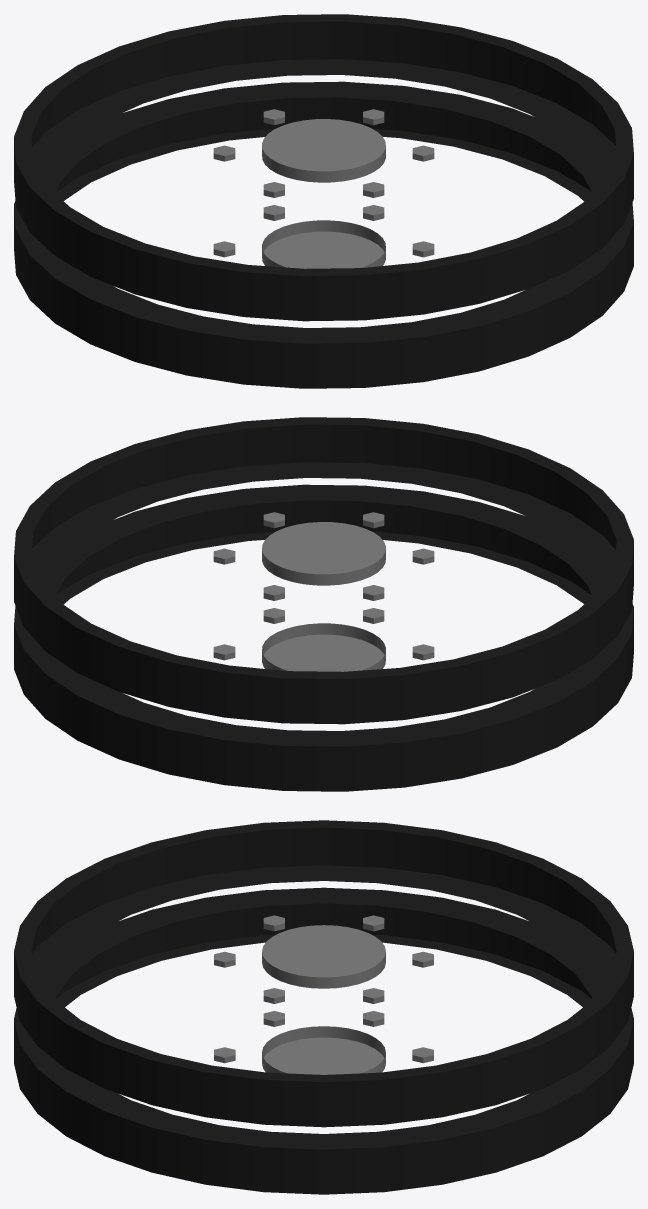
File: LunTai_FuZhongLun_1X5.FBX
3 renders of one model, top to bottom at view 1: azimuth 30°, elevation 25°; view 2: azimuth 150°, elevation 25°; view 3: azimuth 270°, elevation 25°, orthographic.
Parts seen in each view (by area): view 1: Box002; view 2: Box002; view 3: Box002.
Boxes of the visible parts, left/top/right/bottom form: Box002: left=14, top=14, right=633, bottom=388; Box002: left=14, top=417, right=633, bottom=791; Box002: left=14, top=820, right=633, bottom=1194.
Size of the model in its own units: 5 by 1 by 5.
